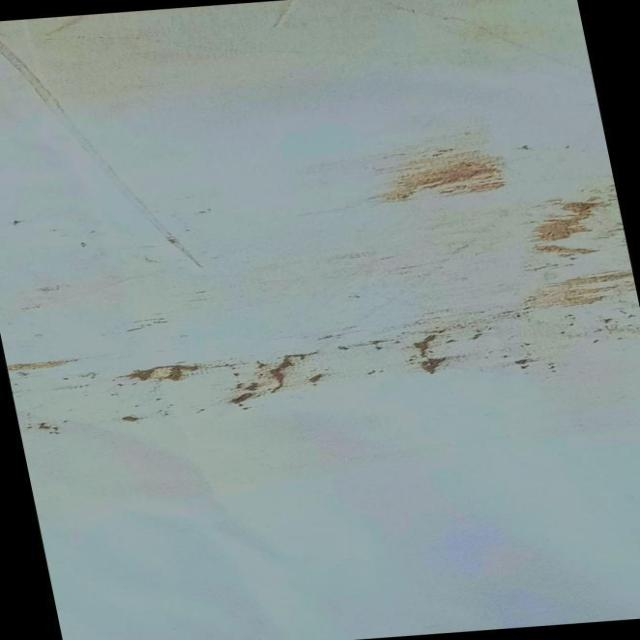stain: (0, 132, 640, 438)
